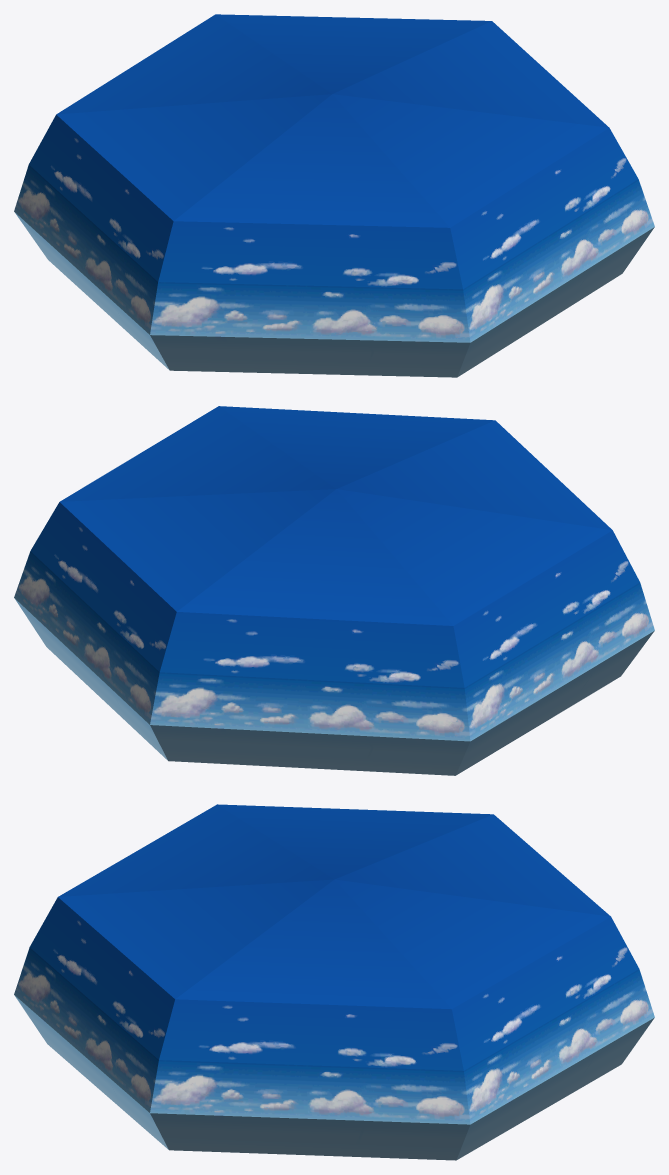
Rendered from cross_course-cross_course_V.glb.
The picture shows the model from 3 angles, top to bottom: view 1: azimuth 30°, elevation 25°; view 2: azimuth 150°, elevation 25°; view 3: azimuth 270°, elevation 25°; orthographic projection.
Visible parts, largest first — view 1: cross_course_V; view 2: cross_course_V; view 3: cross_course_V.
Boxes of the visible parts, x1,y1,x2,y2 form: cross_course_V: (14, 14, 654, 377); cross_course_V: (14, 406, 654, 775); cross_course_V: (14, 804, 654, 1160).
Bounding box in the file's own units: 1268 × 426 × 1394.
1 material, 1 textured.
